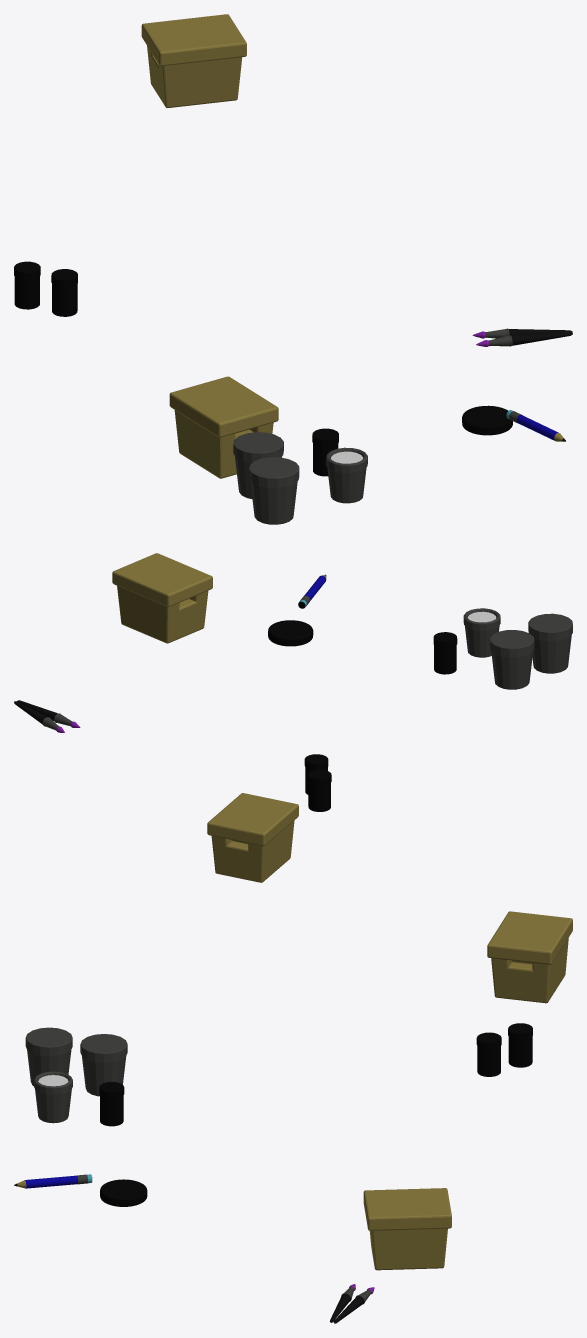
Rendered from random objects.obj.
3 renders of one model, top to bottom at view 1: azimuth 30°, elevation 25°; view 2: azimuth 150°, elevation 25°; view 3: azimuth 270°, elevation 25°, orthographic. The views are drawn at different scales.
Visible parts, largest first — view 1: detailed_models box_on_shelf, detailed_models box_on_shelf1, detailed_models table_stuff paint_bucket_closed2, detailed_models table_stuff paint_bucket, detailed_models paint_bucket_closed1 table_stuff, ericas_stand detailed_models, detailed_models corner_shelf_stuff wall_shelf_canister13, detailed_models wall_shelf_canister12 corner_shelf_stuff, detailed_models corner_shelf_stuff wall_shelf_canister14, detailed_models small_stool_stuff small_stool_paint_brush; view 2: detailed_models box_on_shelf, detailed_models box_on_shelf1, detailed_models paint_bucket_closed1 table_stuff, detailed_models table_stuff paint_bucket_closed2, detailed_models table_stuff paint_bucket, ericas_stand detailed_models, detailed_models corner_shelf_stuff wall_shelf_canister14, detailed_models corner_shelf_stuff wall_shelf_canister13, detailed_models wall_shelf_canister12 corner_shelf_stuff, detailed_models small_stool_stuff small_stool_paint_brush; view 3: detailed_models box_on_shelf1, detailed_models box_on_shelf, detailed_models paint_bucket_closed1 table_stuff, detailed_models table_stuff paint_bucket_closed2, detailed_models table_stuff paint_bucket, ericas_stand detailed_models, detailed_models corner_shelf_stuff wall_shelf_canister13, detailed_models wall_shelf_canister12 corner_shelf_stuff, detailed_models corner_shelf_stuff wall_shelf_canister14, detailed_models table_stuff pencil.
Part boxes in pixels (x1,y1,x2,y2): detailed_models box_on_shelf: (141, 14, 246, 107); detailed_models box_on_shelf1: (169, 376, 278, 478); detailed_models table_stuff paint_bucket_closed2: (249, 457, 299, 524); detailed_models table_stuff paint_bucket: (326, 447, 367, 503); detailed_models paint_bucket_closed1 table_stuff: (233, 432, 283, 498); ericas_stand detailed_models: (462, 405, 512, 435); detailed_models corner_shelf_stuff wall_shelf_canister13: (14, 261, 40, 309); detailed_models wall_shelf_canister12 corner_shelf_stuff: (51, 269, 77, 316); detailed_models corner_shelf_stuff wall_shelf_canister14: (312, 428, 338, 476); detailed_models small_stool_stuff small_stool_paint_brush: (476, 332, 572, 346); detailed_models box_on_shelf: (112, 553, 212, 643); detailed_models box_on_shelf1: (207, 793, 298, 882); detailed_models paint_bucket_closed1 table_stuff: (489, 630, 534, 689); detailed_models table_stuff paint_bucket_closed2: (528, 613, 572, 673); detailed_models table_stuff paint_bucket: (463, 608, 500, 657); ericas_stand detailed_models: (268, 620, 313, 646); detailed_models corner_shelf_stuff wall_shelf_canister14: (433, 632, 457, 674); detailed_models corner_shelf_stuff wall_shelf_canister13: (308, 769, 331, 811); detailed_models wall_shelf_canister12 corner_shelf_stuff: (304, 754, 328, 794); detailed_models small_stool_stuff small_stool_paint_brush: (17, 700, 80, 727); detailed_models box_on_shelf1: (363, 1188, 451, 1270); detailed_models box_on_shelf: (487, 911, 572, 1003); detailed_models paint_bucket_closed1 table_stuff: (80, 1034, 127, 1096); detailed_models table_stuff paint_bucket_closed2: (25, 1027, 72, 1086); detailed_models table_stuff paint_bucket: (34, 1071, 72, 1123); ericas_stand detailed_models: (100, 1179, 147, 1206); detailed_models corner_shelf_stuff wall_shelf_canister13: (508, 1023, 532, 1067); detailed_models wall_shelf_canister12 corner_shelf_stuff: (476, 1032, 501, 1076); detailed_models corner_shelf_stuff wall_shelf_canister14: (99, 1082, 124, 1126); detailed_models table_stuff pencil: (14, 1174, 92, 1188).
Size of the model in its own units: 11.3 by 8.42 by 12.42.
